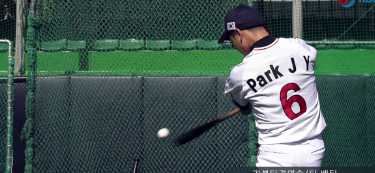ball: (157, 128, 169, 138)
